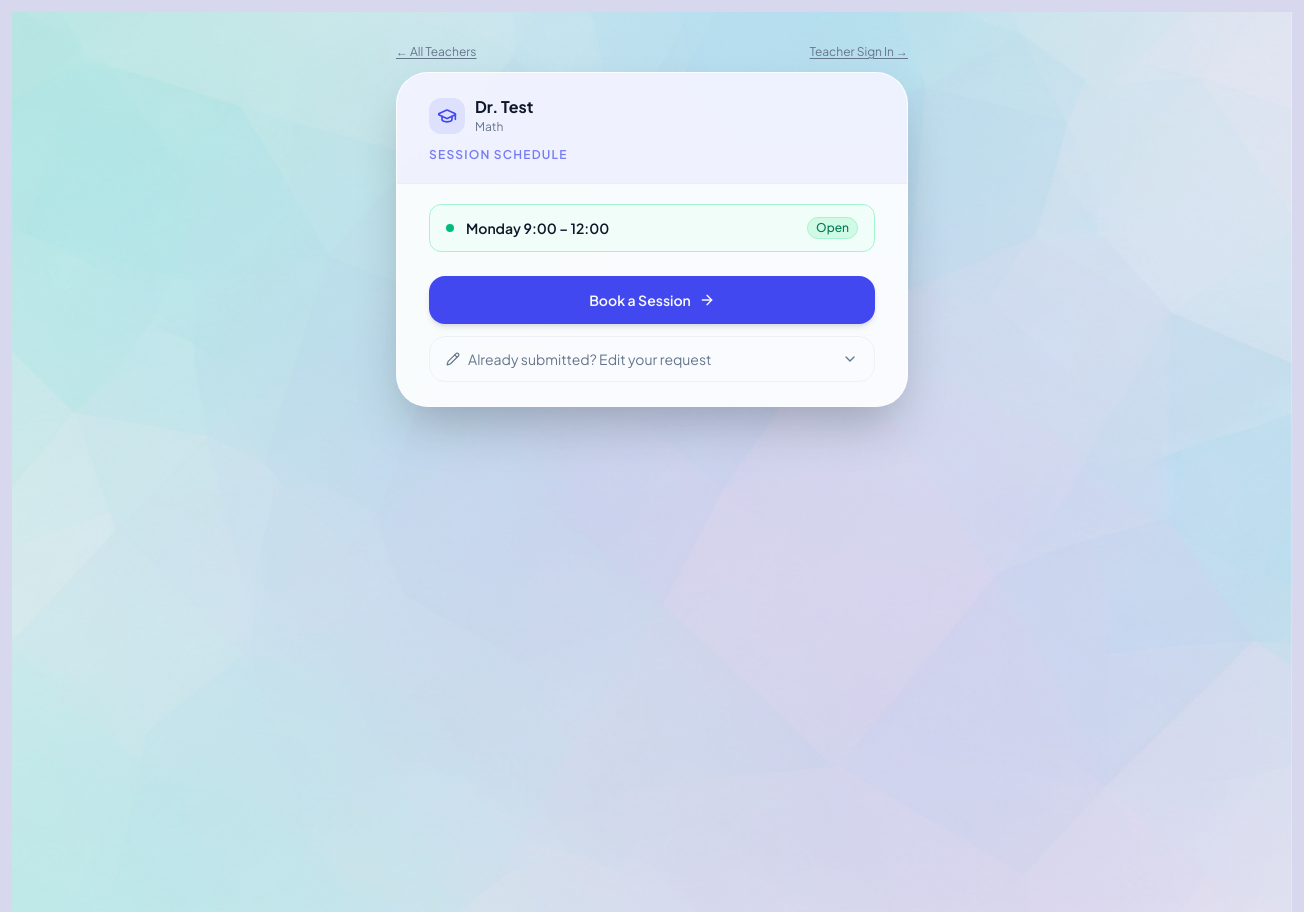
Test: Duration picker (page 1) › shows duration options after advancing from slot picker
Click the button "Book a Session": [652, 300] box [429, 276, 875, 324]
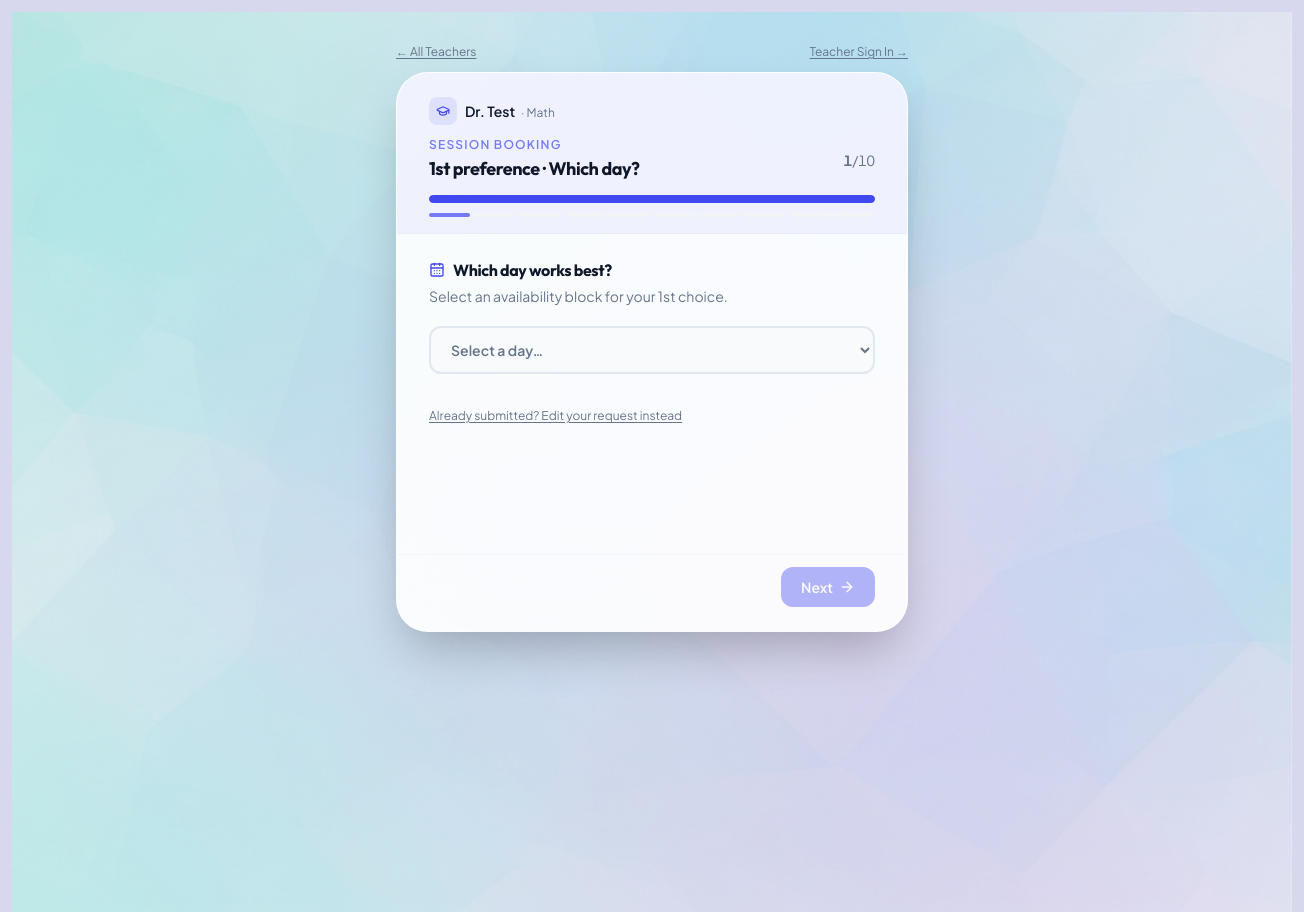
Select "Monday 9:00 – 12:00" in the dropdown: [652, 350] box [429, 326, 875, 374]
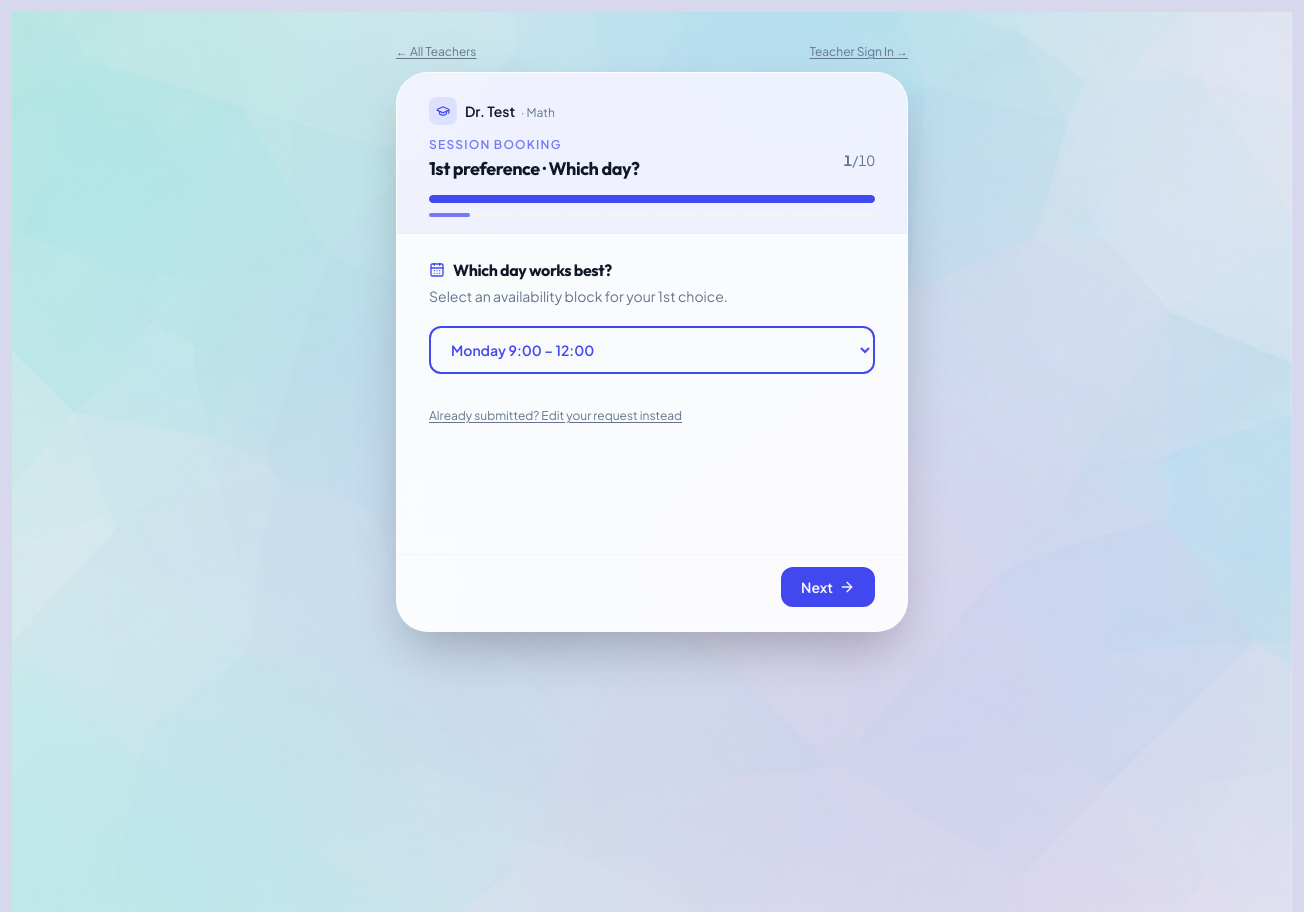
Click the button "Next": [828, 587] box [781, 567, 875, 607]
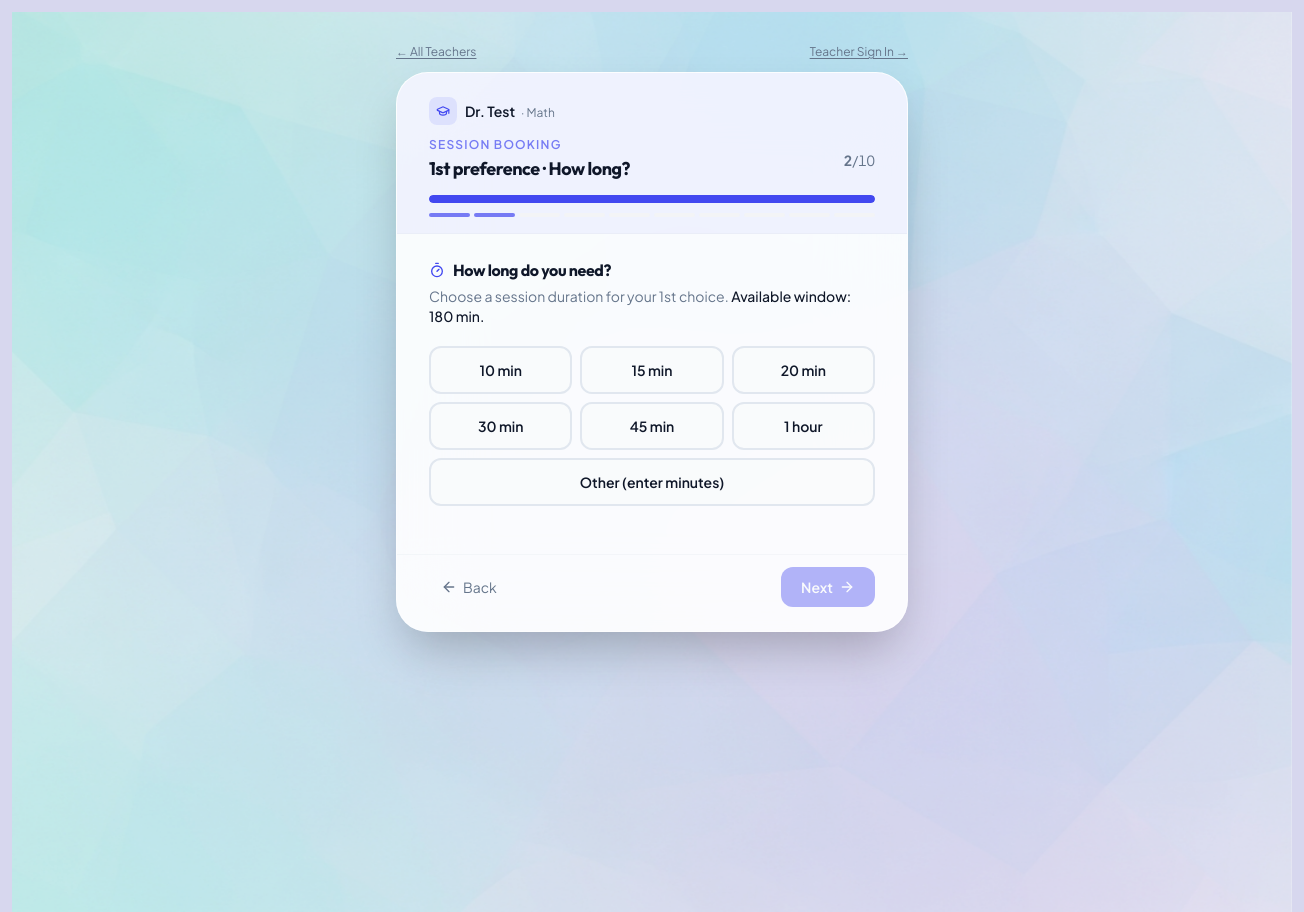
Expected: the button "30 min" is shown, [429, 402, 572, 450]
